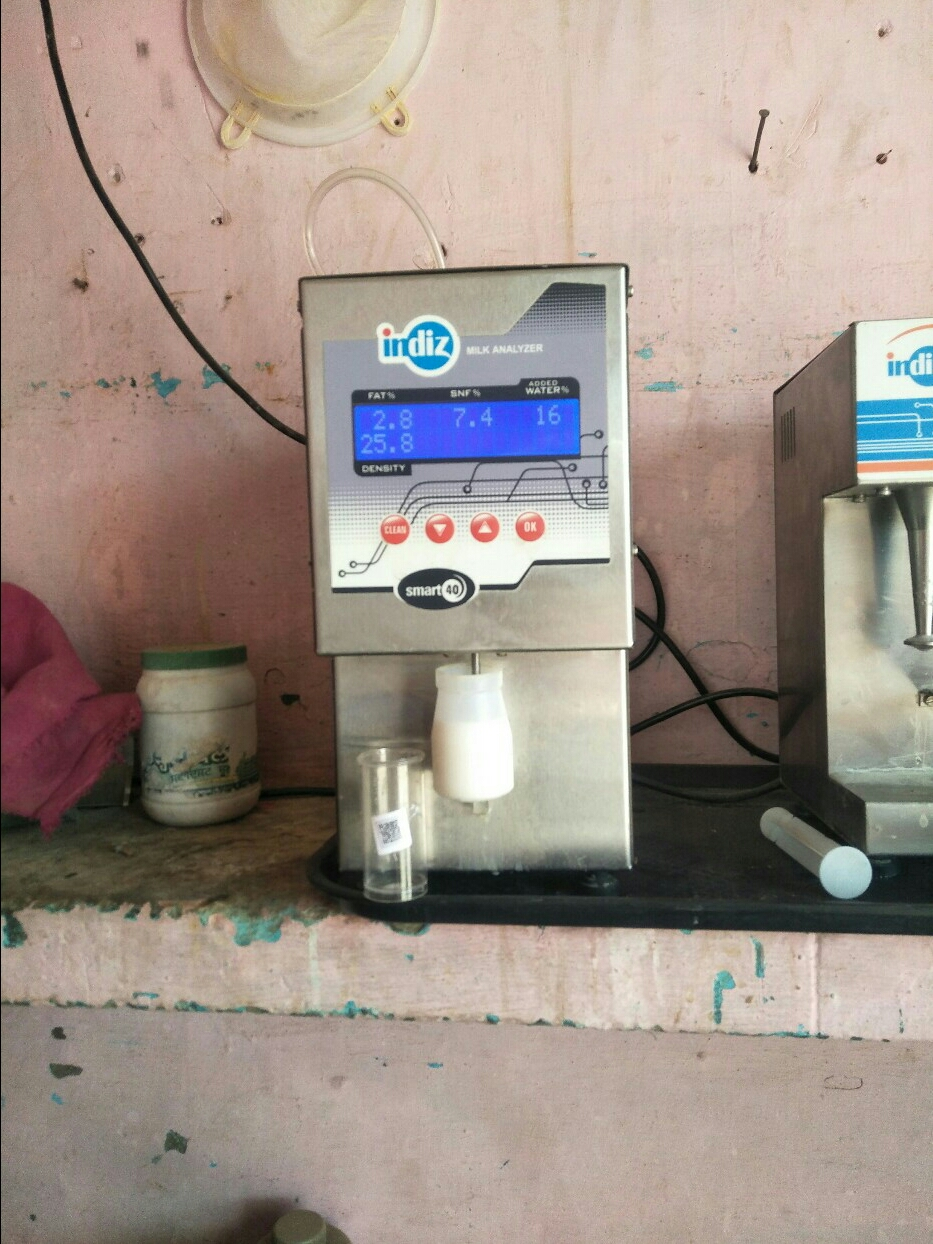lcd: (352, 397, 580, 471)
qr: (369, 816, 412, 852)
